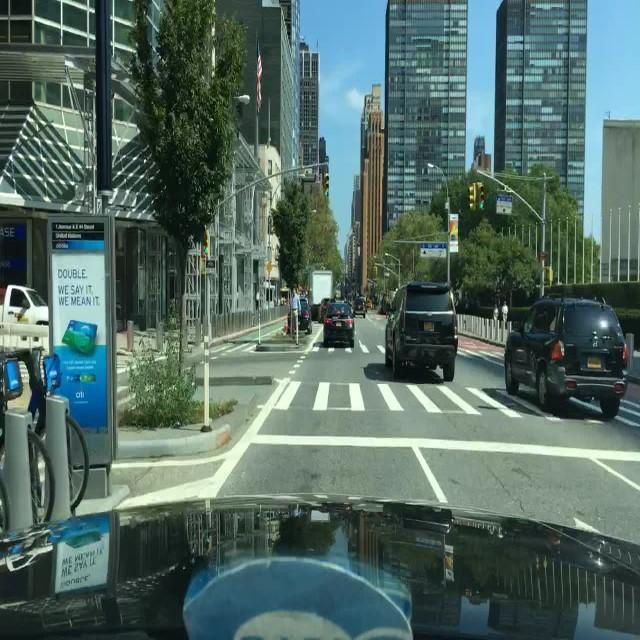normal: (503, 297, 630, 418), (385, 283, 458, 384), (322, 303, 356, 350)
